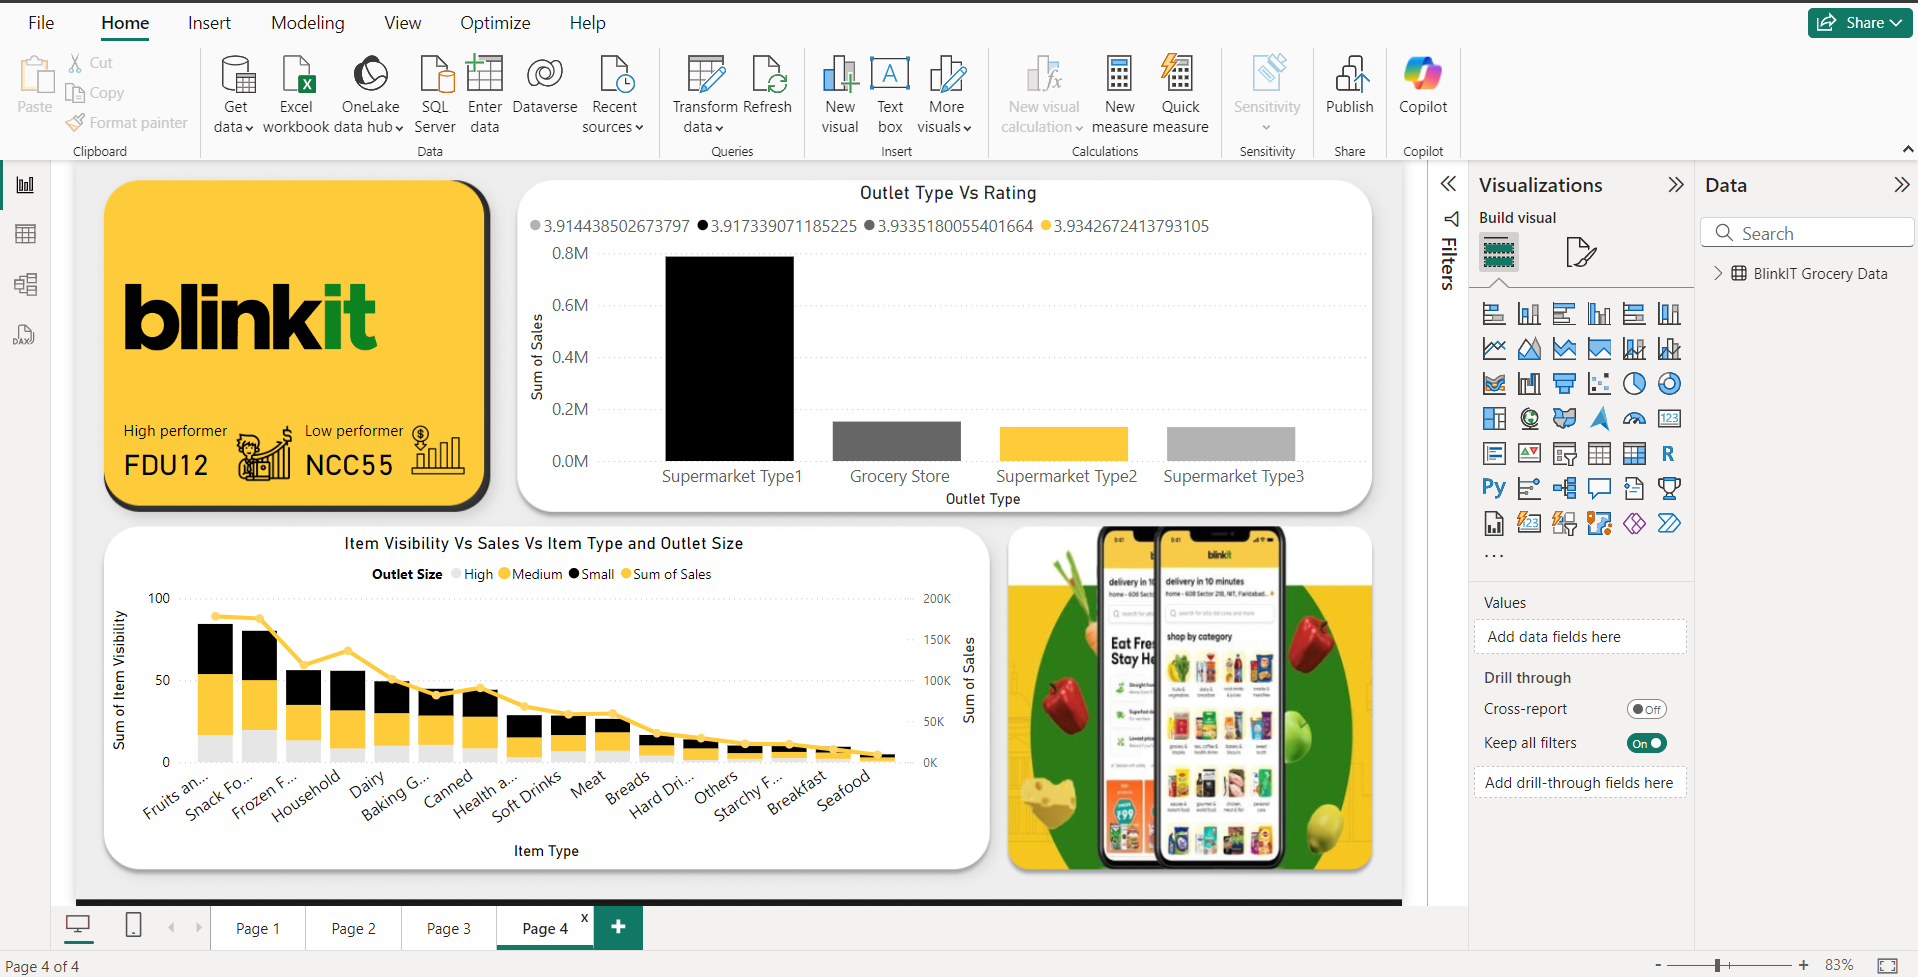

The page's visual inventory and layout, read from the dashboard file:
{"tool":"powerbi","page":{"name":"Page 4","canvas":[1280,720],"ordinal":3},"visuals":[{"type":"lineStackedColumnComboChart","title":"Item Visibility Vs Sales Vs Item Type and Outlet Size","fields":{"Category":["BlinkIT Grocery Data.Item Type"],"Y":["Sum(BlinkIT Grocery Data.Item Visibility)"],"Y2":["Sum(BlinkIT Grocery Data.Sales)"],"Series":["BlinkIT Grocery Data.Outlet Size"]},"box":[29.3,359.5,845.8,320.4],"z":0},{"type":"lineStackedColumnComboChart","title":"Outlet Type Vs Rating","fields":{"Y":["Sum(BlinkIT Grocery Data.Sales)"],"Category":["BlinkIT Grocery Data.Outlet Type"],"Series":["BlinkIT Grocery Data.Average Rating Per Outlet Type"]},"box":[431.7,20,820,320],"z":1000},{"type":"cardVisual","fields":{"Data":["BlinkIT Grocery Data.Identifier with Lowest Sales"]},"box":[203.5,207.5,188.5,119.5],"z":2000},{"type":"image","box":[0,-1.6,338.3,305.8],"z":6000},{"type":"cardVisual","fields":{"Data":["BlinkIT Grocery Data.Identifier with Highest Sales"]},"box":[29.3,219.6,196.8,107.4],"z":7000}]}

Visuals, with their boxes on the page's 1280x720 design canvas (x1, y1, x2, y2). These are canvas units, not pixel positions in the 1918x977 screenshot, which may show the page scaled, cropped or inside an application window:
"Item Visibility Vs Sales Vs Item Type and Outlet Size" lineStackedColumnComboChart: crop(29, 360, 875, 680)
"Outlet Type Vs Rating" lineStackedColumnComboChart: crop(432, 20, 1252, 340)
cardVisual - BlinkIT Grocery Data.Identifier with Lowest Sales: crop(204, 208, 392, 327)
image: crop(0, -2, 338, 304)
cardVisual - BlinkIT Grocery Data.Identifier with Highest Sales: crop(29, 220, 226, 327)
